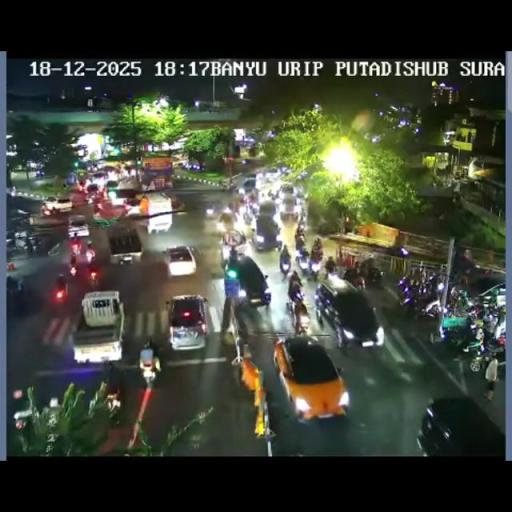Car: (274, 336, 348, 421), (418, 395, 503, 455), (314, 277, 382, 346), (71, 291, 125, 364), (224, 250, 270, 308), (166, 294, 208, 350), (138, 192, 174, 232), (106, 228, 142, 266), (251, 208, 281, 250), (162, 245, 196, 277), (475, 282, 505, 312), (277, 185, 300, 216), (42, 196, 74, 215), (67, 214, 90, 236), (106, 188, 128, 206), (264, 166, 282, 182), (90, 171, 108, 186), (242, 177, 256, 192), (86, 183, 100, 196)
Motorcycle: (436, 312, 475, 351), (404, 286, 442, 322), (478, 318, 505, 358), (288, 293, 310, 335), (340, 266, 366, 289), (448, 283, 470, 309), (467, 347, 489, 372), (397, 274, 416, 300), (216, 210, 234, 236), (362, 264, 383, 286), (140, 358, 157, 385), (466, 302, 486, 324), (295, 250, 311, 276), (105, 390, 121, 416), (6, 275, 24, 297), (230, 191, 245, 214), (288, 270, 302, 294), (53, 281, 67, 304), (310, 239, 323, 262), (88, 266, 100, 288), (308, 260, 320, 281), (6, 237, 20, 255), (280, 251, 290, 276), (25, 236, 37, 254), (324, 256, 335, 275), (204, 203, 217, 219), (296, 215, 306, 235), (249, 200, 259, 218), (68, 260, 78, 278), (70, 237, 80, 255), (228, 248, 238, 266), (295, 236, 305, 251), (226, 182, 238, 194), (85, 248, 94, 263), (268, 188, 278, 201), (93, 200, 101, 214), (8, 186, 17, 196), (86, 193, 94, 204), (238, 186, 246, 196)
